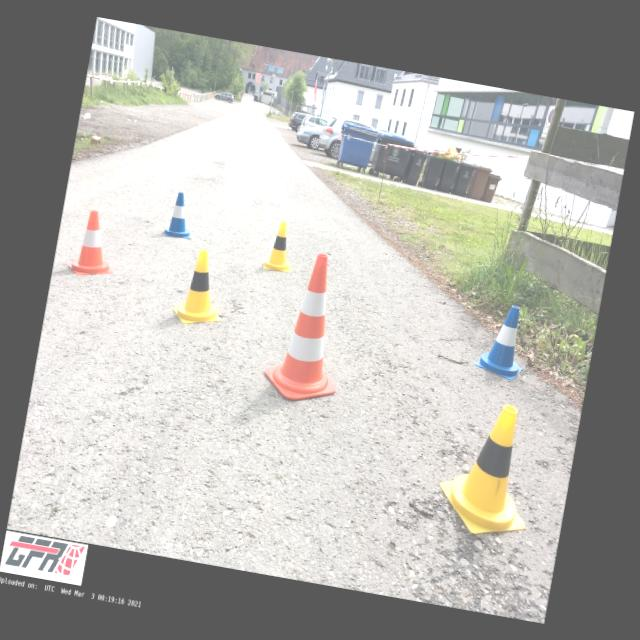blue_cone: (472, 299, 532, 382), (162, 190, 198, 240)
large_orange_cone: (260, 246, 358, 407)
orange_cone: (66, 208, 121, 280)
yellow_cone: (432, 395, 546, 541), (170, 246, 232, 330), (262, 218, 298, 272)
